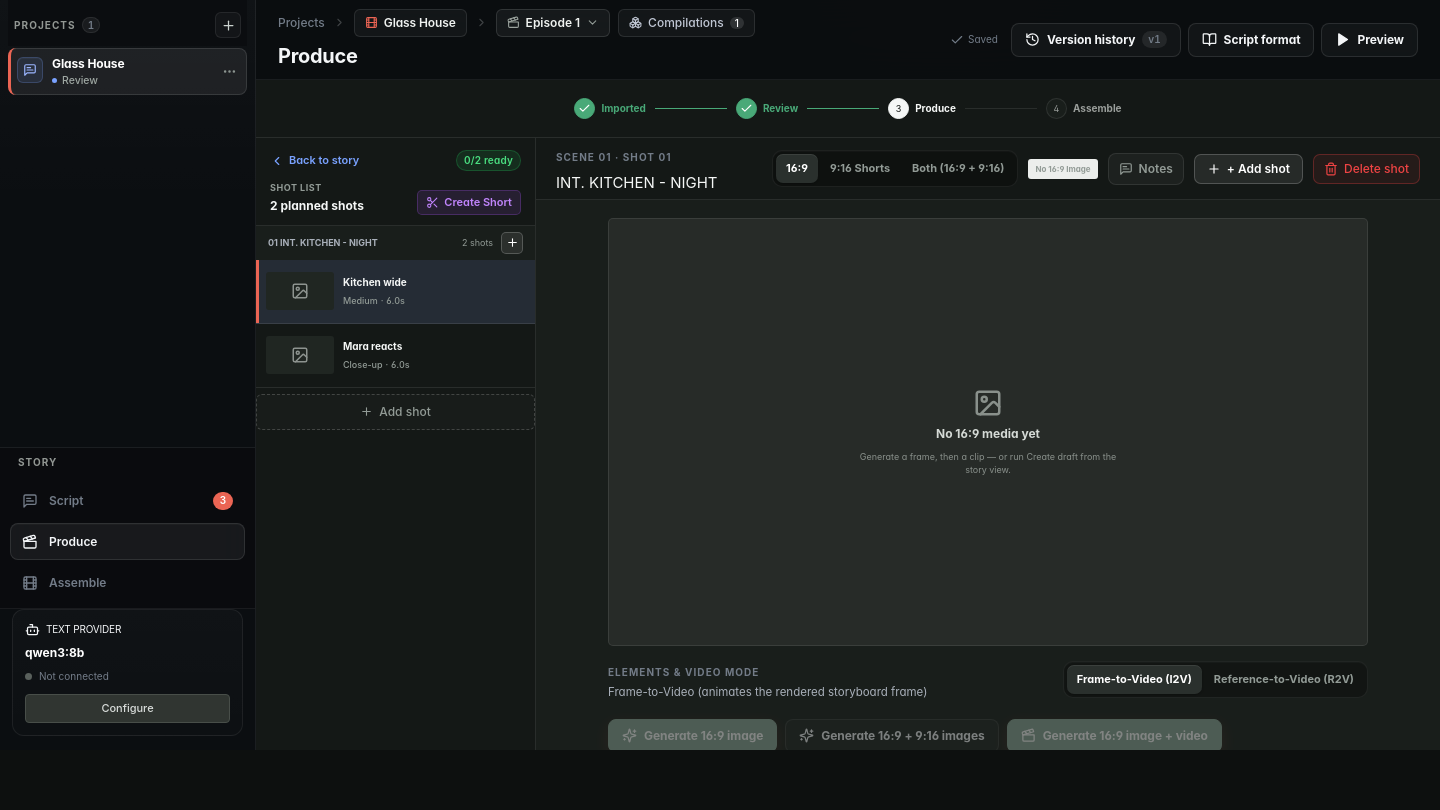
Test case: StudioView › restores the shot detail view from its URL and returns to the Produce overview
Click the button with class "back-to-story".
click(315, 161)  # box x1=270 y1=152 x2=359 y2=169
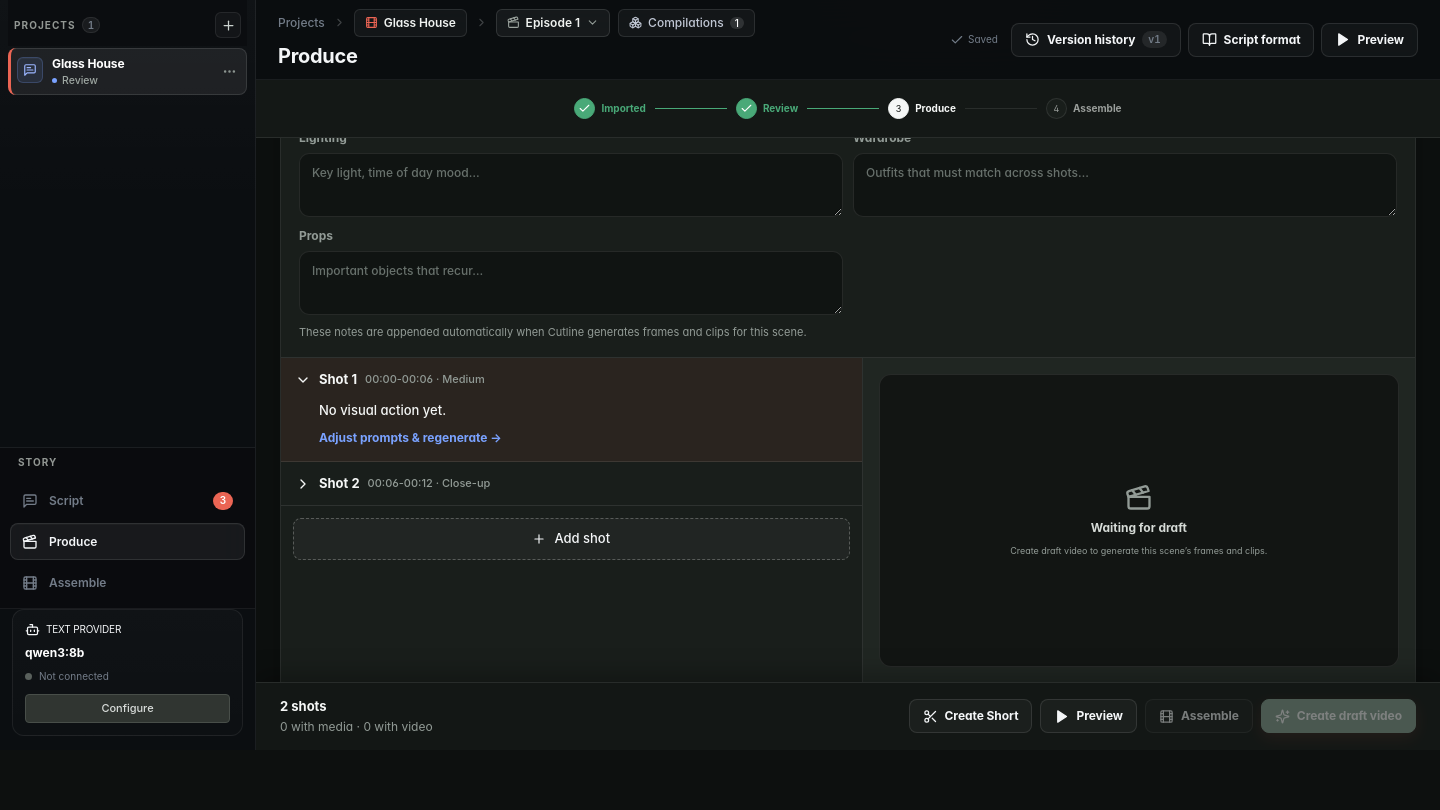
Expected: the element that starts with "Tell the story" is shown, x1=256 y1=138 x2=1439 y2=682
